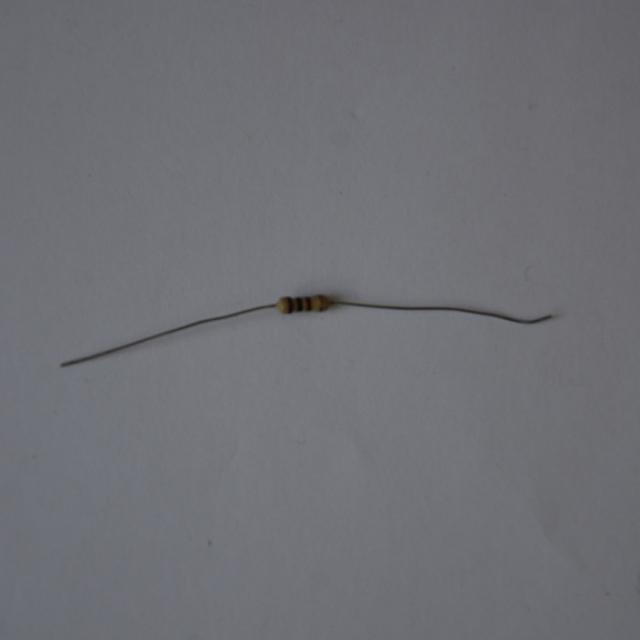black: (297, 297, 302, 310)
brown: (287, 297, 292, 312), (305, 297, 310, 310)
gold: (318, 296, 324, 310)
resistor: (275, 294, 334, 314)
